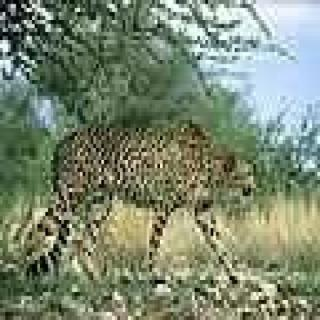Leopard: (20, 110, 271, 304)
